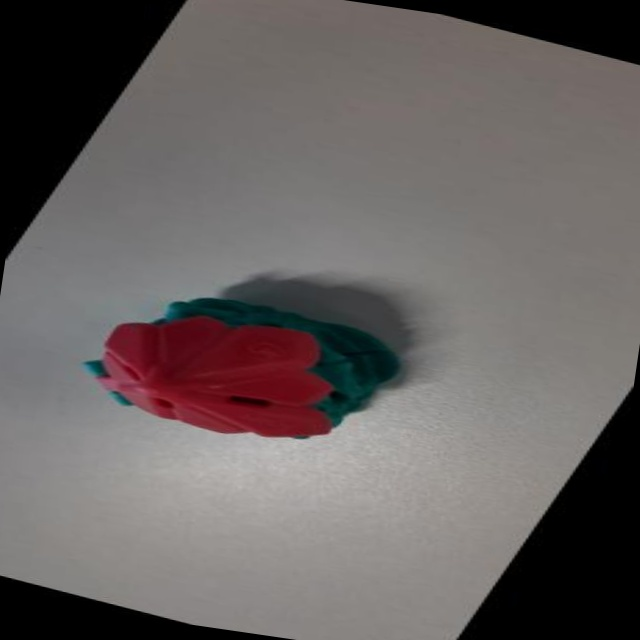House: (53, 257, 441, 485)
